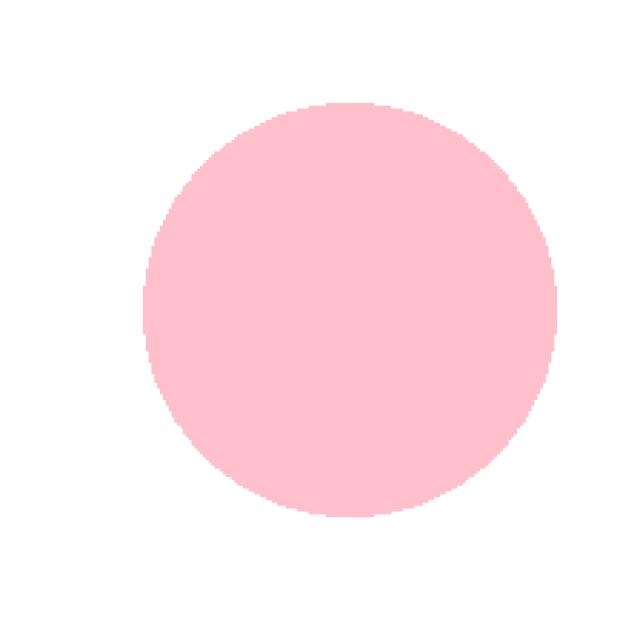Circle: (118, 97, 593, 533)
